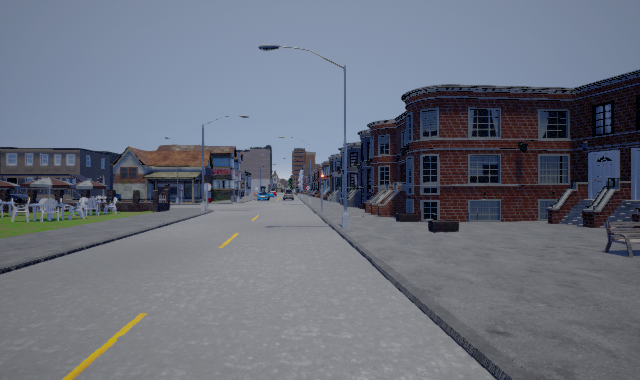traffic_light: (320, 172, 324, 188)
vehicle: (256, 189, 268, 200), (283, 191, 293, 200)
